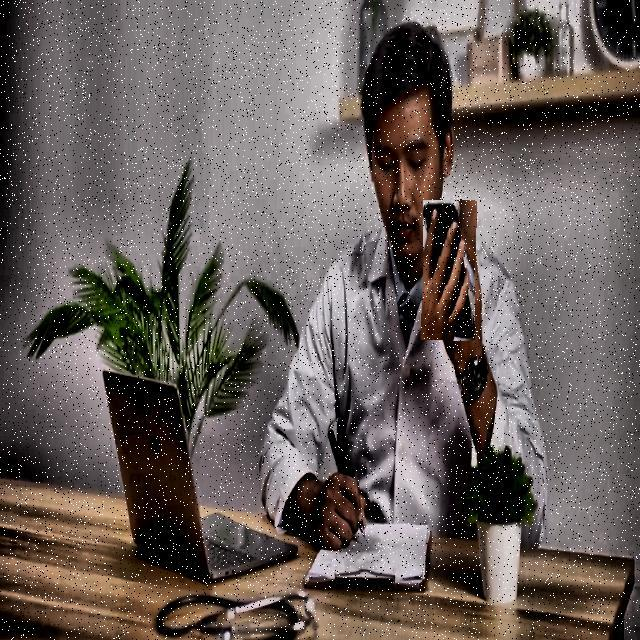Phone: (422, 200, 476, 341)
